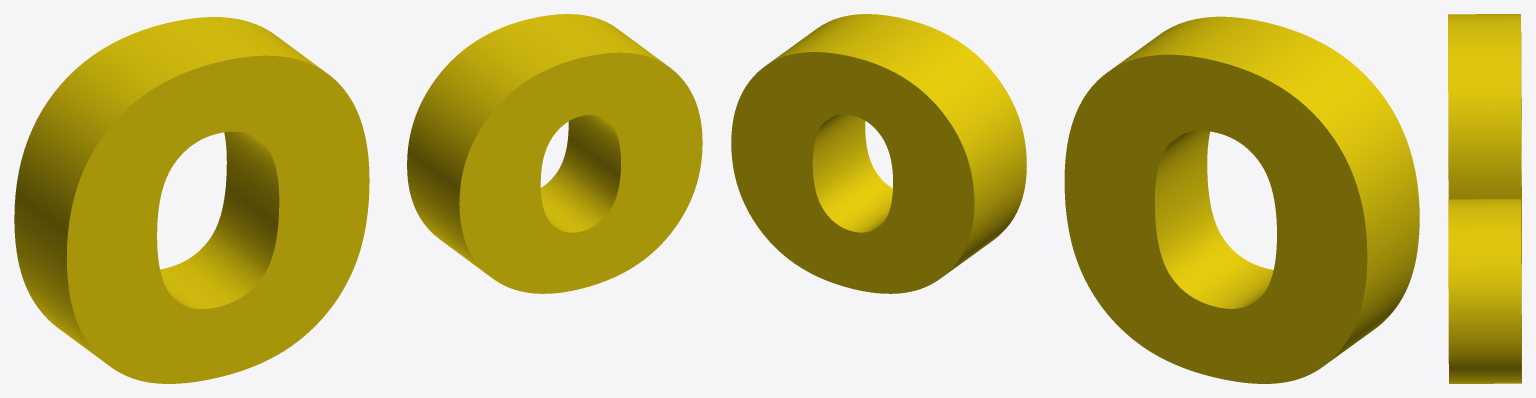
File: letra o.fbx
3 views of the same model, side by side, from view 1: azimuth 30°, elevation 25°; view 2: azimuth 150°, elevation 25°; view 3: azimuth 270°, elevation 25° (orthographic). The views are drawn at different scales.
Parts seen in each view (by area): view 1: Text; view 2: Text; view 3: Text.
Boxes of the visible parts, left/top/right/bottom form: Text: left=14, top=14, right=702, bottom=383; Text: left=731, top=14, right=1419, bottom=383; Text: left=1448, top=14, right=1521, bottom=383.
Bounding box in the file's own units: 112 × 53.31 × 16.22.
